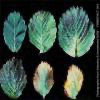Strawberry leaf: (58, 3, 95, 58), (27, 7, 58, 55), (3, 10, 27, 53)
